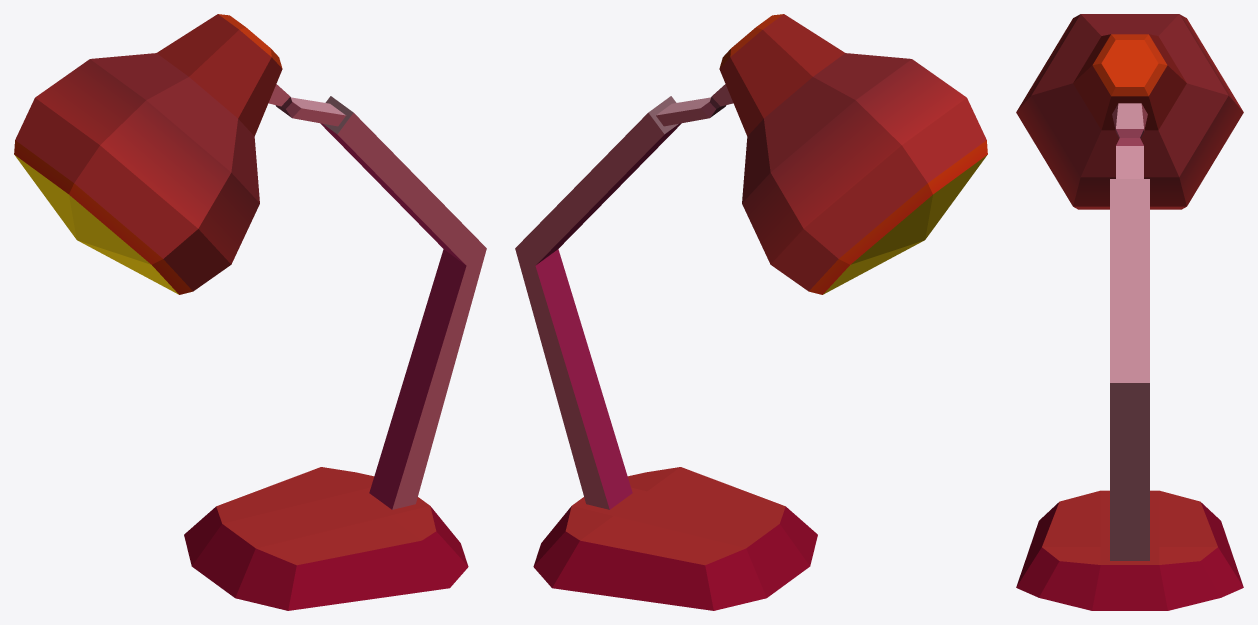
File: lamp.fbx
3 renders of one model, left to right at view 1: azimuth 30°, elevation 25°; view 2: azimuth 150°, elevation 25°; view 3: azimuth 270°, elevation 25°, orthographic. The views are drawn at different scales.
Parts seen in each view (by area): view 1: lamp; view 2: lamp; view 3: lamp.
Boxes of the visible parts, <box> form: lamp: <box>14,14,486,610</box>; lamp: <box>515,14,987,610</box>; lamp: <box>1016,14,1243,610</box>.
Size of the model in its own units: 385 by 472 by 200.
